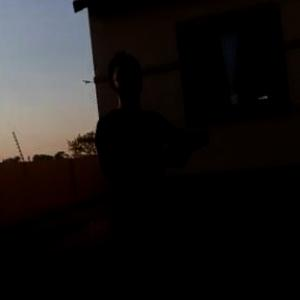follow: (85, 50, 212, 299)
